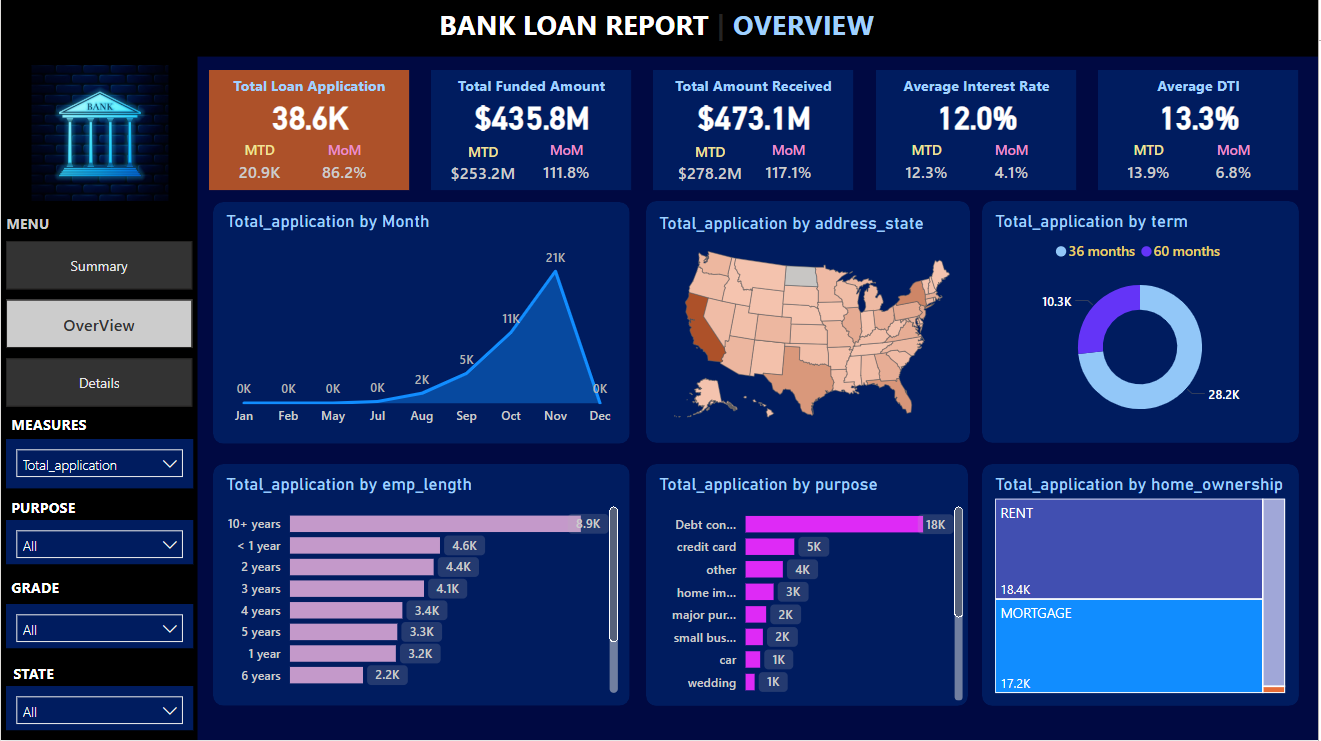

What the dashboard file says about the page in this screenshot:
{"tool":"powerbi","page":{"name":"OverView","canvas":[1280,720],"ordinal":1},"visuals":[{"type":"shape","box":[0,52.5,191.5,667.7],"z":0},{"type":"shape","box":[0,0,1280,55],"z":1000},{"type":"textbox","box":[6.8,639.5,199.2,29.2],"z":1000,"group":"g11"},{"type":"textbox","box":[421.2,0,452.3,52.5],"z":2000},{"type":"slicer","fields":{"Values":["Bank_Loan_Data.address_state"]},"box":[4.9,666.7,181.7,42.8],"z":2000,"group":"g11"},{"type":"shape","box":[202.3,68.1,194.5,116.7],"z":3000,"group":"g1"},{"type":"shape","box":[418.2,68.1,194.5,116.7],"z":3000,"group":"g2"},{"type":"shape","box":[634.2,68.1,194.5,116.7],"z":3000,"group":"g3"},{"type":"shape","box":[850.1,68.1,194.5,116.7],"z":3000,"group":"g5"},{"type":"shape","box":[1066,68.1,194.5,116.7],"z":3000,"group":"g6"},{"type":"slicer","fields":{"Values":["Bank_Loan_Data.purpose"]},"box":[4.9,505.4,181.7,42.8],"z":3000,"group":"g11"},{"type":"group","id":"g1","title":"Group 1","box":[202.3,68.1,195.5,116.7],"z":4000},{"type":"slicer","fields":{"Values":["Bank_Loan_Data.grade"]},"box":[4.9,587.1,181.7,42.8],"z":4000,"group":"g11"},{"type":"textbox","box":[4.9,555.9,199.2,29.2],"z":5000,"group":"g11"},{"type":"shape","box":[206.2,196.5,405,235],"z":5500,"group":"g4"},{"type":"shape","box":[206,451,405,235],"z":5500,"group":"g7"},{"type":"group","id":"g2","title":"Group 1","box":[418.2,68.1,195.5,116.7],"z":6000},{"type":"shape","box":[626.9,195.4,314.9,235.2],"z":6000,"group":"g8"},{"type":"textbox","box":[4.9,397.8,199.2,29.2],"z":6000,"group":"g11"},{"type":"textbox","box":[4.9,478.2,199.2,29.2],"z":6000,"group":"g11"},{"type":"textbox","box":[0,202.2,199.2,29.2],"z":7000,"group":"g11"},{"type":"group","id":"g3","title":"Group 1","box":[634.2,68.1,195.5,116.7],"z":8000},{"type":"group","id":"g4","title":"Group 2","box":[206.2,196.5,405,235],"z":8000,"group":"g10"},{"type":"card","fields":{"Values":["Analysis.Total_application"]},"box":[203.3,87.6,194.5,49.6],"z":9000,"group":"g1"},{"type":"card","fields":{"Values":["Analysis.Total funded amount"]},"box":[419.2,87.6,194.5,49.6],"z":9000,"group":"g2"},{"type":"card","fields":{"Values":["Analysis.Total Amount Received"]},"box":[635.2,87.6,194.5,49.6],"z":9000,"group":"g3"},{"type":"card","fields":{"Values":["Analysis.Avg Int Rate"]},"box":[851.1,87.6,194.5,49.6],"z":9000,"group":"g5"},{"type":"card","fields":{"Values":["Analysis.AVG DTI"]},"box":[1067,87.6,194.5,49.6],"z":9000,"group":"g6"},{"type":"areaChart","fields":{"Y":["Analysis.Total_application"],"Category":["Date table.Month"]},"box":[213.8,205.1,390.7,216.7],"z":9000,"group":"g10"},{"type":"group","id":"g5","title":"Group 1","box":[850.1,68.1,195.5,116.7],"z":10000},{"type":"pageNavigator","box":[4.9,234.2,181.7,163.3],"z":11001},{"type":"image","box":[10.7,58.3,171.1,141.9],"z":12000,"group":"g11"},{"type":"shape","box":[953.4,195.4,308.1,235.2],"z":12000,"group":"g9"},{"type":"shapeMap","fields":{"Category":["Bank_Loan_Data.address_state"],"Value":["Analysis.Total_application"]},"box":[634.7,207.1,307.1,216.7],"z":12001,"group":"g8"},{"type":"donutChart","fields":{"Y":["Analysis.Total_application"],"Category":["Bank_Loan_Data.term"]},"box":[961.2,205.1,291.6,216.7],"z":12002,"group":"g9"},{"type":"textbox","box":[202.3,68.1,195.5,29.2],"z":13000,"group":"g1"},{"type":"textbox","box":[418.2,68.1,195.5,29.2],"z":13000,"group":"g2"},{"type":"textbox","box":[634.2,68.1,195.5,29.2],"z":13000,"group":"g3"},{"type":"textbox","box":[850.1,68.1,195.5,29.2],"z":13000,"group":"g5"},{"type":"group","id":"g6","title":"Group 1","box":[1066,68.1,195.5,116.7],"z":13000},{"type":"textbox","box":[1066,68.1,195.5,29.2],"z":13000,"group":"g6"},{"type":"card","title":"MTD","fields":{"Values":["Analysis.MTD Loan Application"]},"box":[217.9,137.2,67.1,47.7],"z":14000,"group":"g1"},{"type":"card","title":"MTD","fields":{"Values":["Analysis.MTD AVG int rate"]},"box":[865.7,137.2,67.1,47.7],"z":14000,"group":"g5"},{"type":"card","title":"MTD","fields":{"Values":["Analysis.MTD AVG DTI"]},"box":[1081.6,137.2,67.1,47.7],"z":14000,"group":"g6"},{"type":"card","title":"MTD","fields":{"Values":["Analysis.MTD funded application"]},"box":[430.7,139,75.9,45.7],"z":14000,"group":"g2"},{"type":"card","title":"MTD","fields":{"Values":["Analysis.MTD Received Amount"]},"box":[650.8,139,77.8,45.7],"z":14000,"group":"g3"},{"type":"card","title":"MoM","fields":{"Values":["Analysis.MoM loan Application"]},"box":[300.5,137.2,67.1,47.7],"z":15000,"group":"g1"},{"type":"card","title":"MoM","fields":{"Values":["Analysis.MoM Funded Amount"]},"box":[516.4,137.2,67.1,47.7],"z":15000,"group":"g2"},{"type":"card","title":"MoM","fields":{"Values":["Analysis.MoM Received Amount"]},"box":[732.4,137.2,67.1,47.7],"z":15000,"group":"g3"},{"type":"card","title":"MoM","fields":{"Values":["Analysis.MoM AVG Int Rate"]},"box":[948.3,137.2,67.1,47.7],"z":15000,"group":"g5"},{"type":"card","title":"MoM","fields":{"Values":["Analysis.MoM AVG DTI"]},"box":[1164.2,137.2,67.1,47.7],"z":15000,"group":"g6"},{"type":"group","id":"g7","title":"Group 2","box":[206,451,405.3,235.2],"z":15000},{"type":"shape","box":[626.9,451,313,235.2],"z":16000},{"type":"shape","box":[953.4,451,308.1,235.2],"z":17000},{"type":"group","id":"g8","title":"Group 4","box":[626.9,195.4,314.9,235.2],"z":18000},{"type":"group","id":"g9","title":"Group 5","box":[953.4,195.4,308.1,235.2],"z":19000},{"type":"group","id":"g10","title":"Group 6","box":[206.2,196.5,405,235],"z":20000},{"type":"barChart","fields":{"Category":["Bank_Loan_Data.emp_length"],"Y":["Analysis.Total_application"]},"box":[213.8,460.7,390.7,217.7],"z":21002},{"type":"barChart","fields":{"Y":["Analysis.Total_application"],"Category":["Bank_Loan_Data.purpose"]},"box":[634.7,460.7,305.2,225.5],"z":21003},{"type":"treemap","fields":{"Values":["Analysis.Total_application"],"Group":["Bank_Loan_Data.home_ownership"]},"box":[961.2,460.7,291.6,217.7],"z":21004},{"type":"slicer","fields":{"Values":["select Measure.select Measure"]},"box":[4.9,427,181.7,47.6],"z":21006,"group":"g11"},{"type":"group","id":"g11","title":"Group 3","box":[0,58.3,206,651.2],"z":21007}]}

Visuals, with their boxes in screenshot pixels (x1, y1, x2, y2), scaled from the page's 1280x720 canvas onto the 1321x741 screenshot:
shape: <region>0, 54, 198, 740</region>
shape: <region>0, 0, 1320, 57</region>
textbox: <region>7, 658, 213, 688</region>
textbox: <region>435, 0, 901, 54</region>
slicer - Bank_Loan_Data.address_state: <region>5, 686, 193, 730</region>
shape: <region>209, 70, 410, 190</region>
shape: <region>432, 70, 632, 190</region>
shape: <region>655, 70, 855, 190</region>
shape: <region>877, 70, 1078, 190</region>
shape: <region>1100, 70, 1301, 190</region>
slicer - Bank_Loan_Data.purpose: <region>5, 520, 193, 564</region>
"Group 1" group: <region>209, 70, 411, 190</region>
slicer - Bank_Loan_Data.grade: <region>5, 604, 193, 648</region>
textbox: <region>5, 572, 211, 602</region>
shape: <region>213, 202, 631, 444</region>
shape: <region>213, 464, 631, 706</region>
"Group 1" group: <region>432, 70, 633, 190</region>
shape: <region>647, 201, 972, 443</region>
textbox: <region>5, 409, 211, 439</region>
textbox: <region>5, 492, 211, 522</region>
textbox: <region>0, 208, 206, 238</region>
"Group 1" group: <region>655, 70, 856, 190</region>
"Group 2" group: <region>213, 202, 631, 444</region>
card - Analysis.Total_application: <region>210, 90, 411, 141</region>
card - Analysis.Total funded amount: <region>433, 90, 633, 141</region>
card - Analysis.Total Amount Received: <region>656, 90, 856, 141</region>
card - Analysis.Avg Int Rate: <region>878, 90, 1079, 141</region>
card - Analysis.AVG DTI: <region>1101, 90, 1302, 141</region>
areaChart - Analysis.Total_application x Date table.Month: <region>221, 211, 624, 434</region>
"Group 1" group: <region>877, 70, 1079, 190</region>
pageNavigator: <region>5, 241, 193, 409</region>
image: <region>11, 60, 188, 206</region>
shape: <region>984, 201, 1302, 443</region>
shapeMap - Bank_Loan_Data.address_state x Analysis.Total_application: <region>655, 213, 972, 436</region>
donutChart - Analysis.Total_application x Bank_Loan_Data.term: <region>992, 211, 1293, 434</region>
textbox: <region>209, 70, 411, 100</region>
textbox: <region>432, 70, 633, 100</region>
textbox: <region>655, 70, 856, 100</region>
textbox: <region>877, 70, 1079, 100</region>
"Group 1" group: <region>1100, 70, 1302, 190</region>
textbox: <region>1100, 70, 1302, 100</region>
"MTD" card: <region>225, 141, 294, 190</region>
"MTD" card: <region>893, 141, 963, 190</region>
"MTD" card: <region>1116, 141, 1185, 190</region>
"MTD" card: <region>444, 143, 523, 190</region>
"MTD" card: <region>672, 143, 752, 190</region>
"MoM" card: <region>310, 141, 379, 190</region>
"MoM" card: <region>533, 141, 602, 190</region>
"MoM" card: <region>756, 141, 825, 190</region>
"MoM" card: <region>979, 141, 1048, 190</region>
"MoM" card: <region>1201, 141, 1271, 190</region>
"Group 2" group: <region>213, 464, 631, 706</region>
shape: <region>647, 464, 970, 706</region>
shape: <region>984, 464, 1302, 706</region>
"Group 4" group: <region>647, 201, 972, 443</region>
"Group 5" group: <region>984, 201, 1302, 443</region>
"Group 6" group: <region>213, 202, 631, 444</region>
barChart - Bank_Loan_Data.emp_length x Analysis.Total_application: <region>221, 474, 624, 698</region>
barChart - Analysis.Total_application x Bank_Loan_Data.purpose: <region>655, 474, 970, 706</region>
treemap - Analysis.Total_application x Bank_Loan_Data.home_ownership: <region>992, 474, 1293, 698</region>
slicer - select Measure.select Measure: <region>5, 439, 193, 488</region>
"Group 3" group: <region>0, 60, 213, 730</region>
